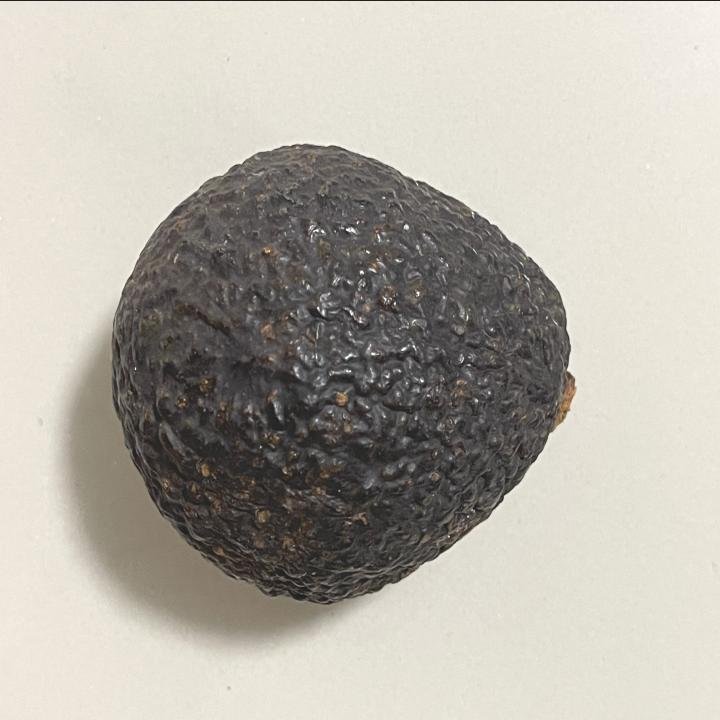Level1: (103, 123, 584, 616)
